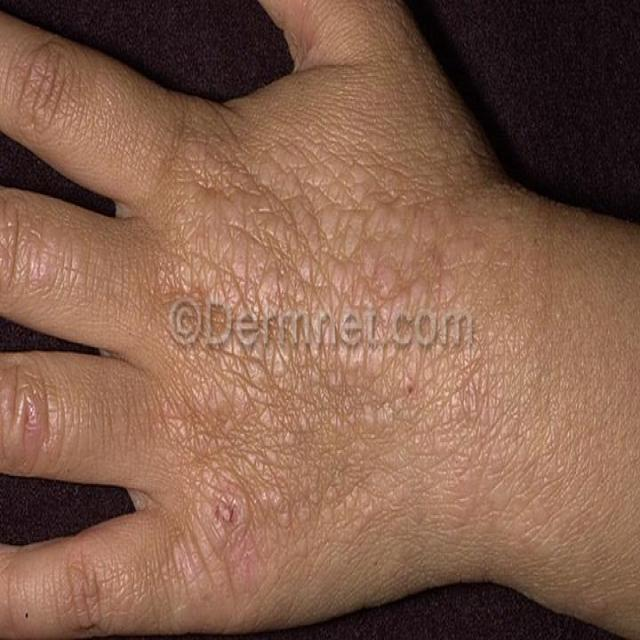liquenificacion 1: (178, 132, 509, 522)
